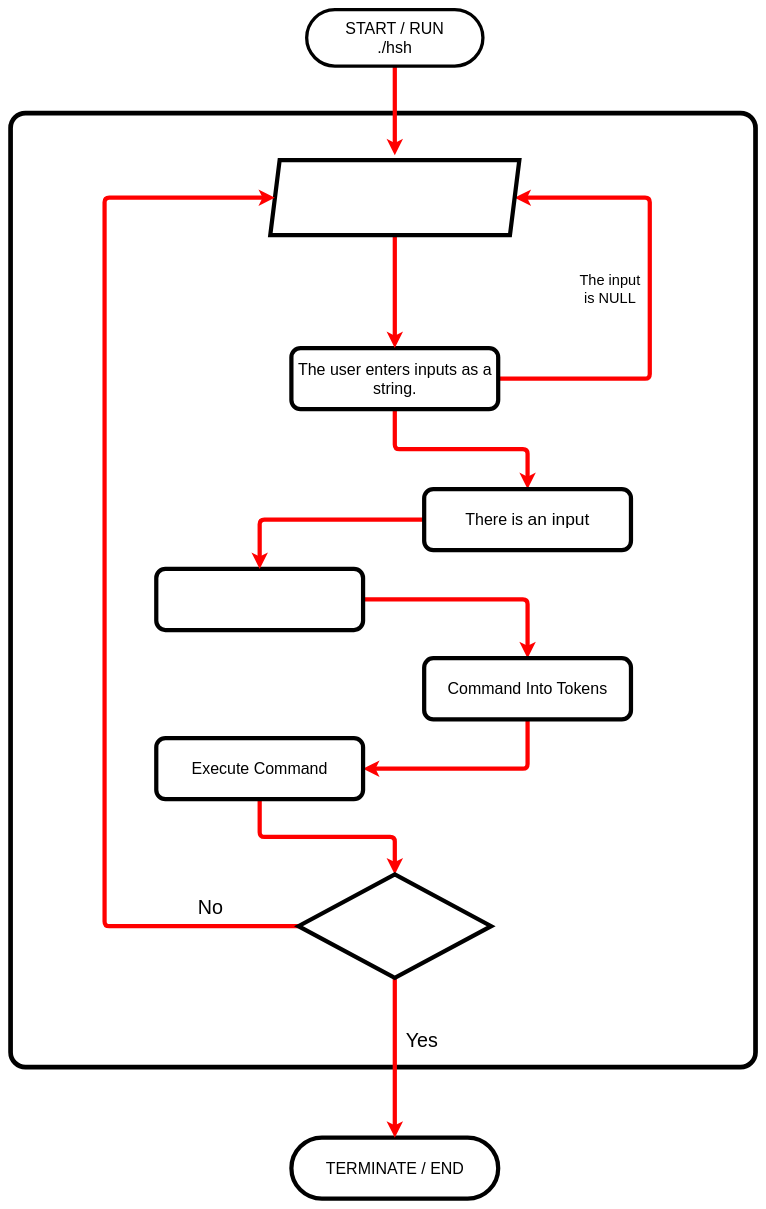
Some shapes in this 766 by 1209 pixel diagram are drawn without their labels. Here are the shapes that lost their labels. From the top down, the box of each, then its label:
(268, 158, 521, 237): Write <Shell>$ Wait for an input from the user
(154, 567, 365, 632): Remove Comments
(296, 872, 493, 980): Command = Exit
